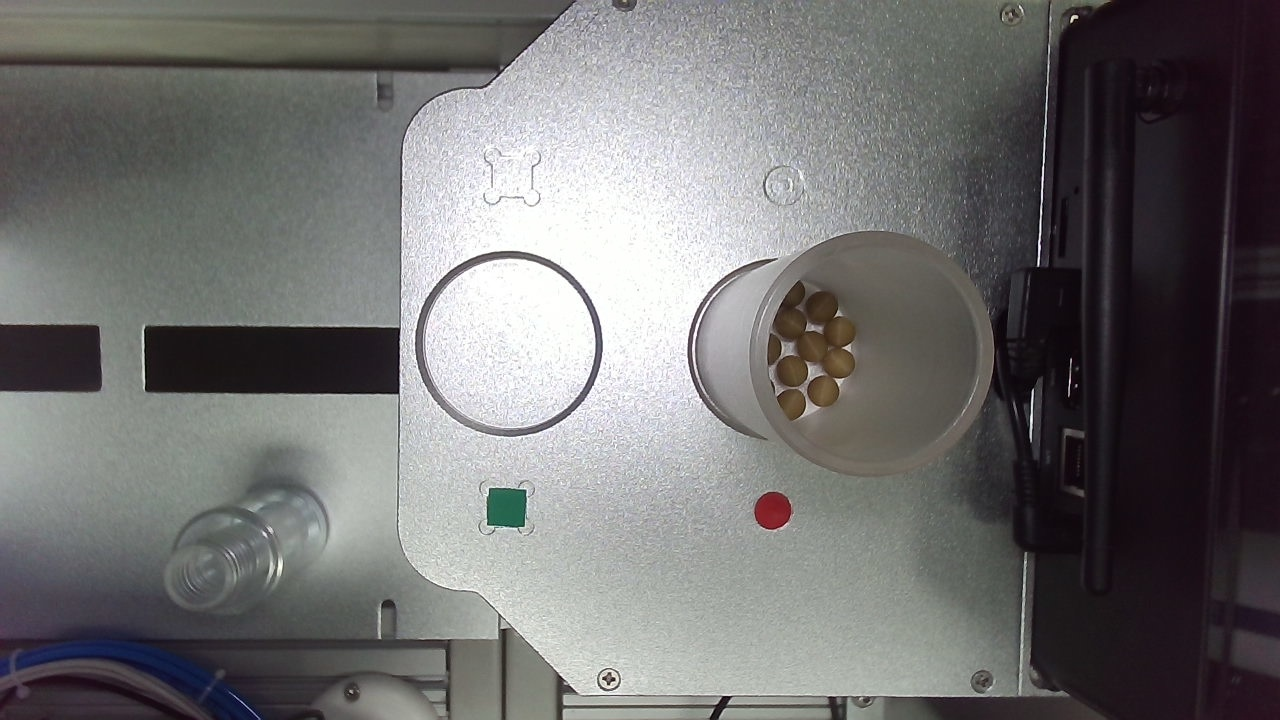XLabel: (659, 297, 693, 330)
YLabel: (439, 302, 474, 337)
none: (598, 366, 760, 529)
transparenexcept: (282, 370, 539, 585)
